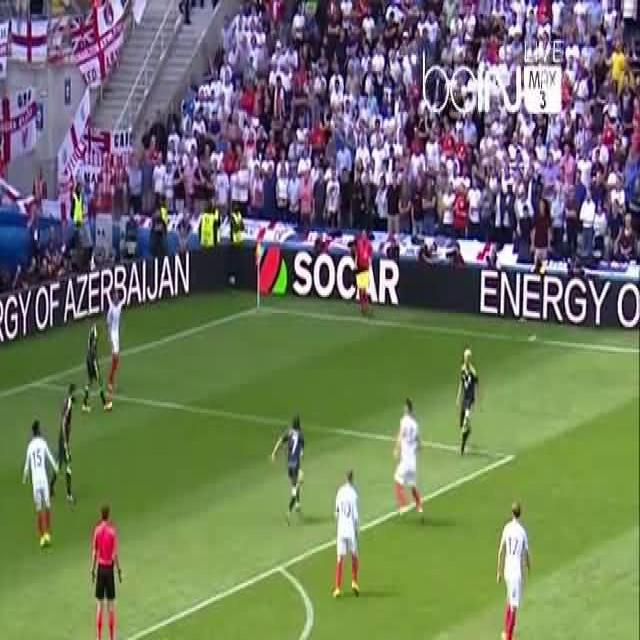ball: (298, 468, 304, 484)
player-white: (496, 501, 529, 640), (23, 419, 57, 547), (91, 505, 120, 640), (271, 416, 305, 524), (392, 398, 423, 515), (332, 472, 361, 597), (49, 384, 76, 504), (82, 314, 113, 412), (455, 347, 479, 455), (106, 290, 126, 392), (355, 229, 371, 316)
